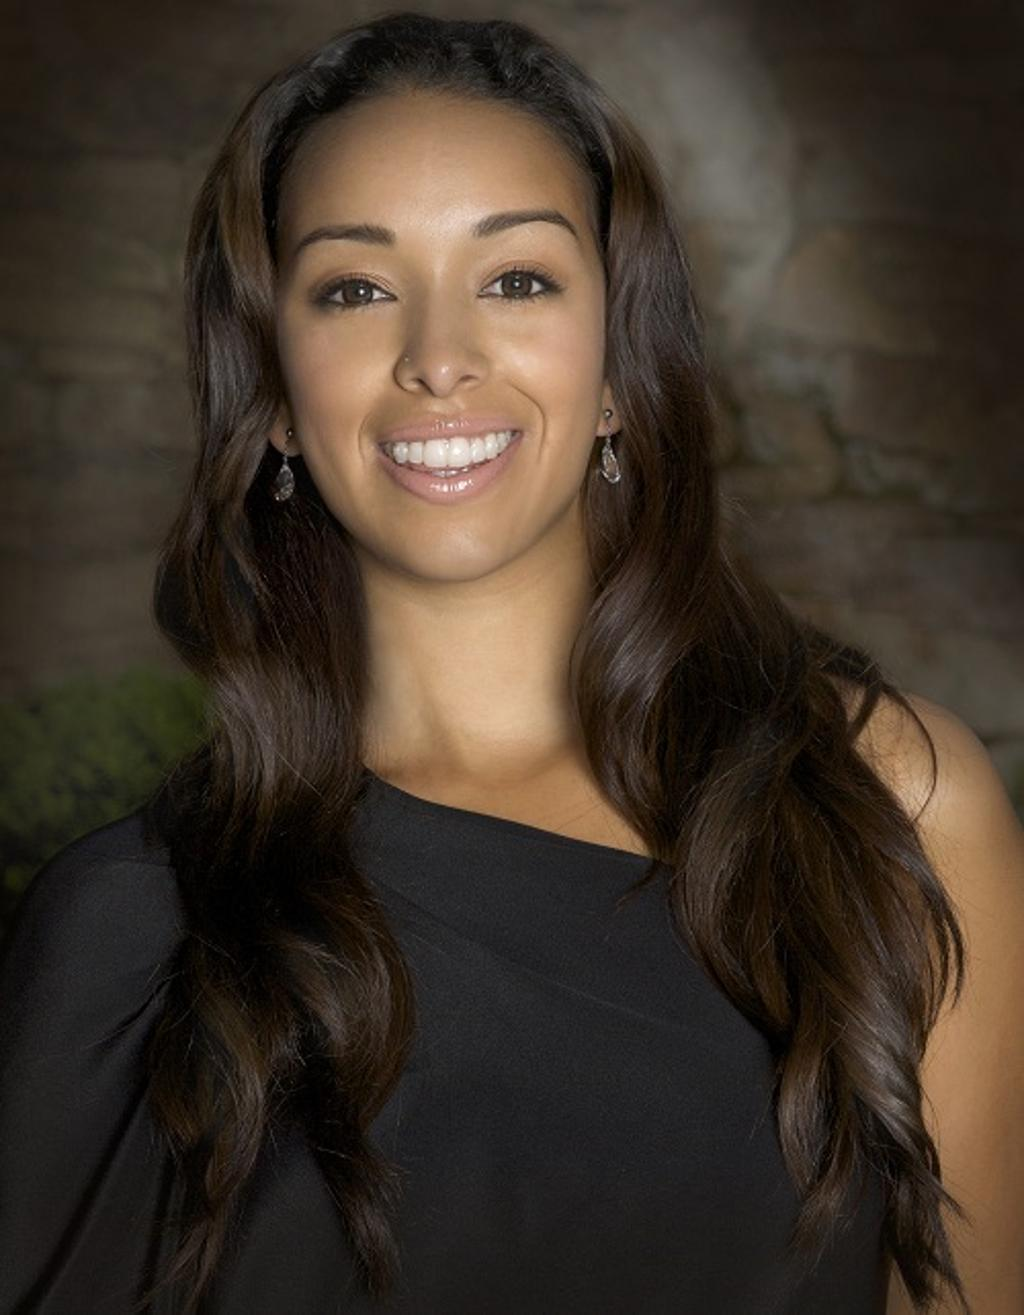face: (282, 92, 608, 574)
